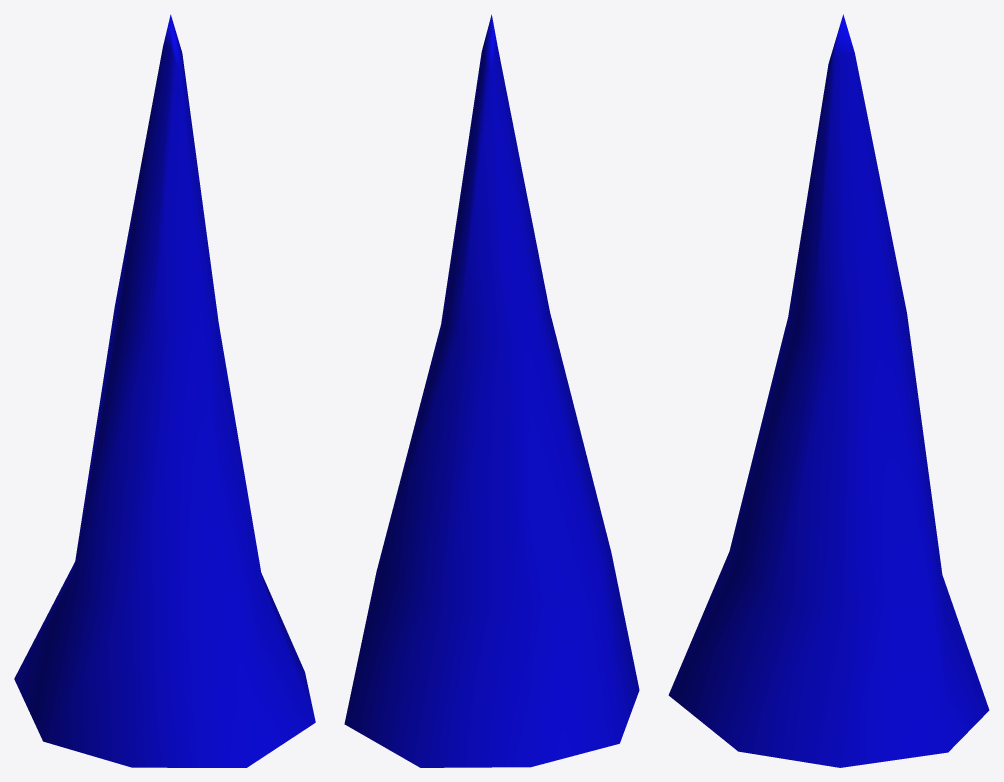
Rendered from Spike02_mesh.fbx.
3 renders of one model, left to right at view 1: azimuth 30°, elevation 25°; view 2: azimuth 150°, elevation 25°; view 3: azimuth 270°, elevation 25°, orthographic.
Parts seen in each view (by area): view 1: Spike02_mesh; view 2: Spike02_mesh; view 3: Spike02_mesh.
Part boxes in pixels (box(x1,y1,x2,y2)): Spike02_mesh: box(14, 14, 315, 767); Spike02_mesh: box(344, 14, 639, 767); Spike02_mesh: box(668, 14, 989, 767).
Bounding box in the file's own units: 0.721 × 1.85 × 0.7699.
